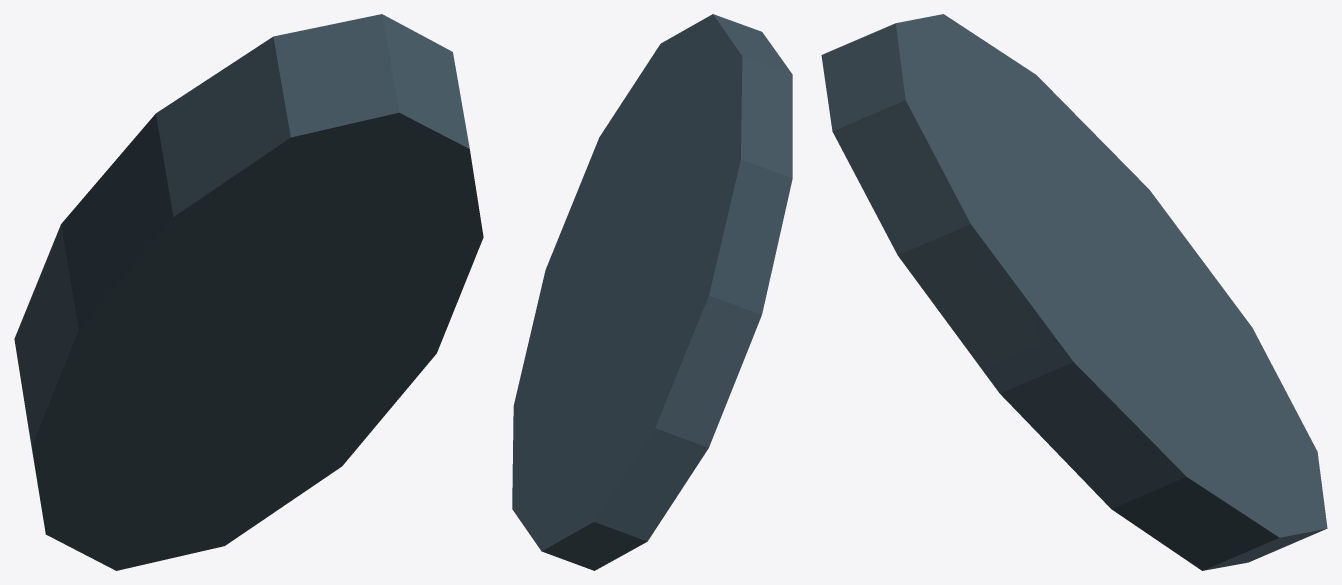
The model's file is astronaut_base_group1808813520_lev4.glb.
The picture shows the model from 3 angles, left to right: view 1: azimuth 30°, elevation 25°; view 2: azimuth 150°, elevation 25°; view 3: azimuth 270°, elevation 25°; orthographic projection. The views are drawn at different scales.
Parts seen in each view (by area): view 1: astronaut_base_group1808813520_lev4; view 2: astronaut_base_group1808813520_lev4; view 3: astronaut_base_group1808813520_lev4.
Part boxes in pixels (left/top/right/bottom): astronaut_base_group1808813520_lev4: left=14, top=14, right=483, bottom=570; astronaut_base_group1808813520_lev4: left=512, top=14, right=792, bottom=570; astronaut_base_group1808813520_lev4: left=821, top=14, right=1327, bottom=570.
Bounding box in the file's own units: 0.1357 × 0.2694 × 0.2231.
